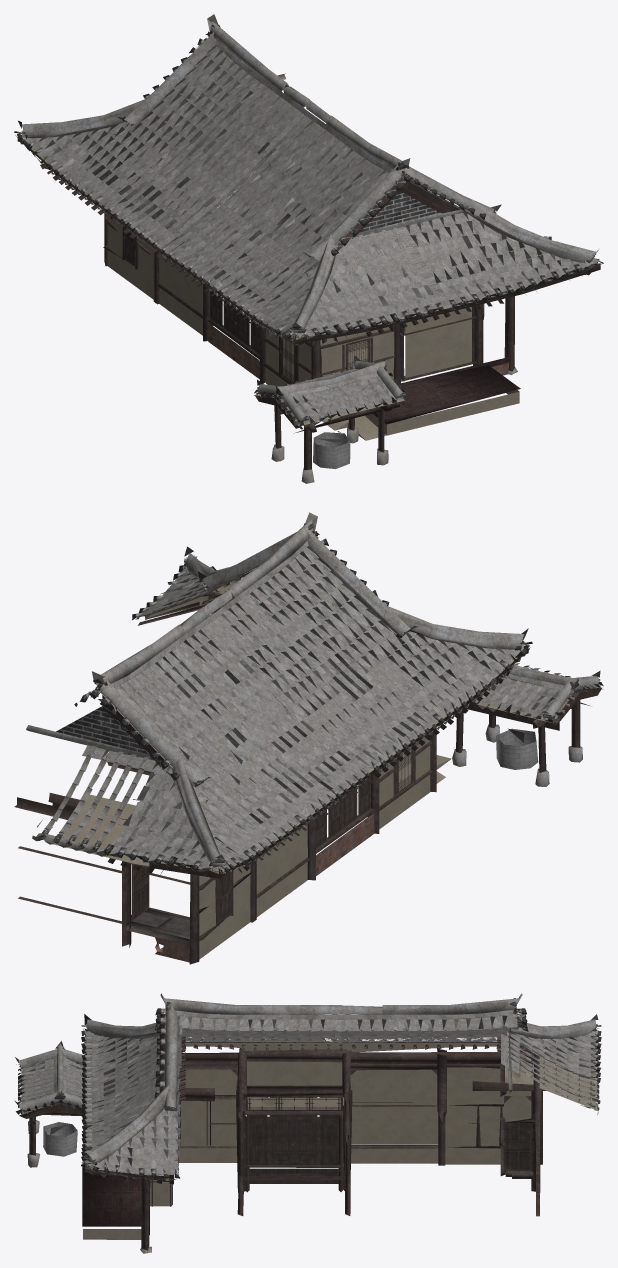
The model's file is gIENGLow3.fbx.
3 views of the same model, one above another, from view 1: azimuth 30°, elevation 25°; view 2: azimuth 150°, elevation 25°; view 3: azimuth 270°, elevation 25° (orthographic). The views are drawn at different scales.
Visible parts, largest first — view 1: Sarangchae; view 2: Sarangchae; view 3: Sarangchae.
Boxes of the visible parts, left/top/right/bottom form: Sarangchae: left=14, top=14, right=603, bottom=483; Sarangchae: left=14, top=512, right=603, bottom=964; Sarangchae: left=14, top=993, right=601, bottom=1253.
Size of the model in its own units: 1323 by 853 by 2125.
